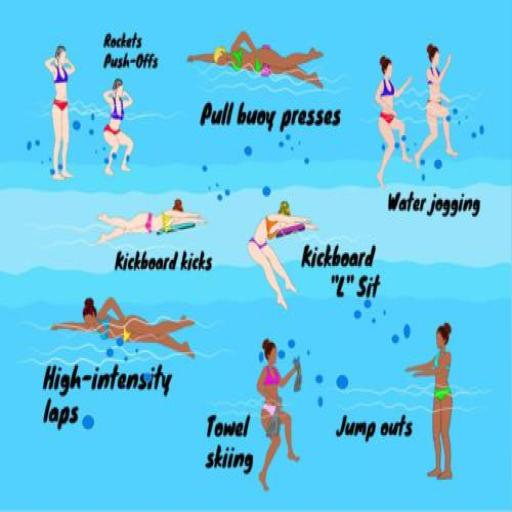swimming: (48, 294, 197, 361), (185, 28, 326, 92), (402, 320, 454, 483), (245, 198, 318, 312), (254, 336, 303, 494), (412, 42, 460, 170), (94, 195, 207, 248), (372, 52, 414, 191), (42, 43, 77, 183), (99, 76, 135, 178)
